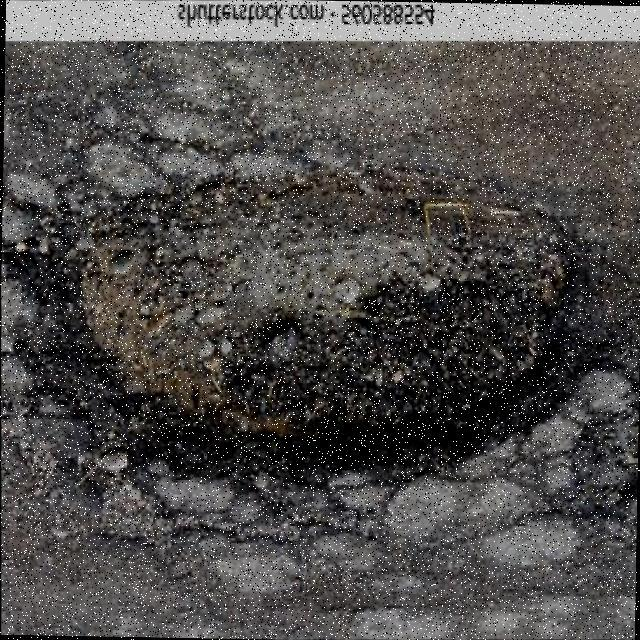Pothole: (1, 182, 640, 477)
